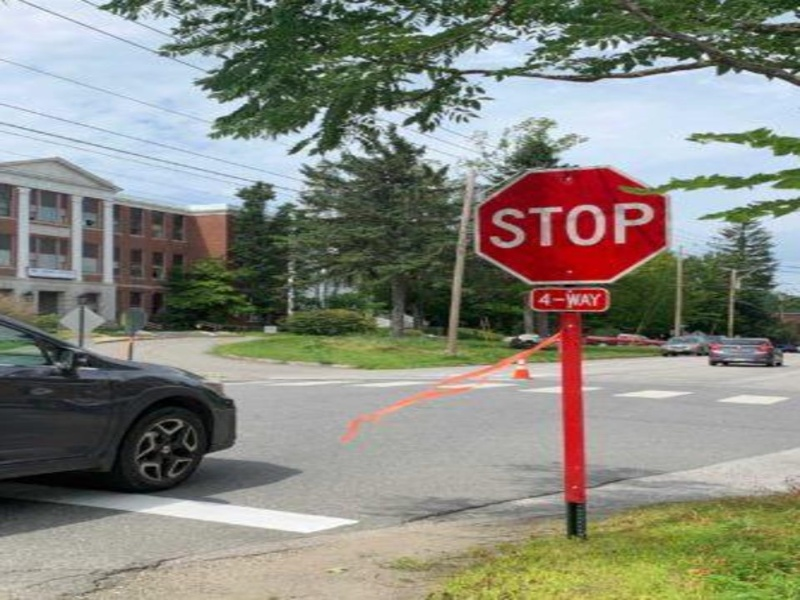stopsign: (421, 138, 682, 399)
